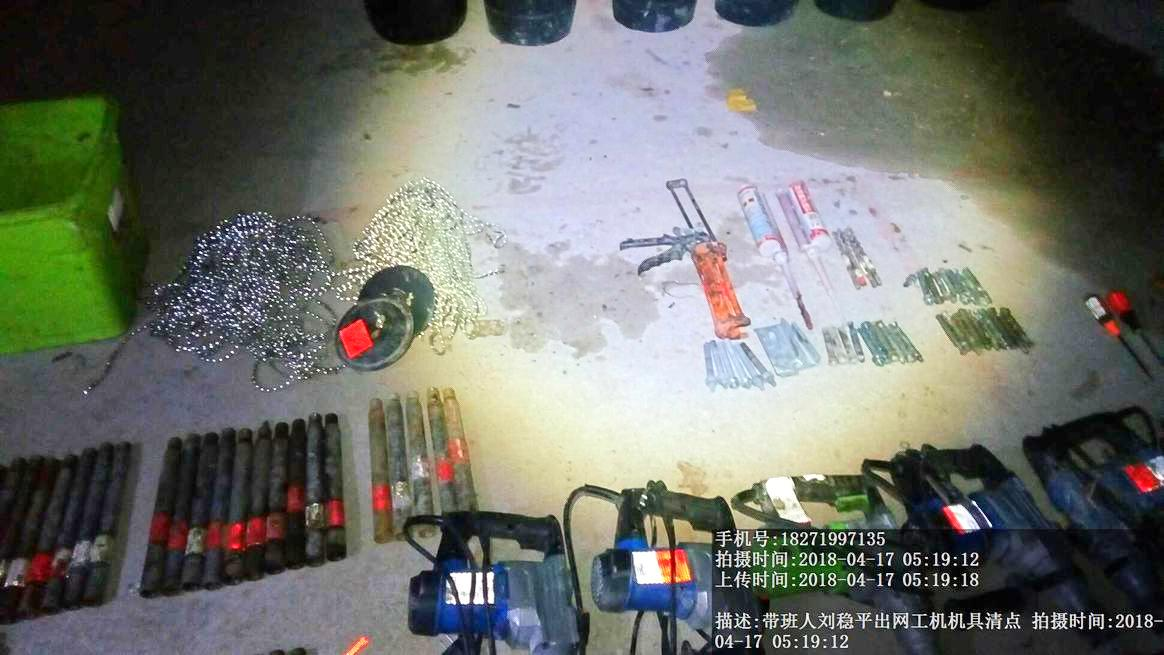DZ: (390, 510, 579, 655), (576, 480, 712, 645)
